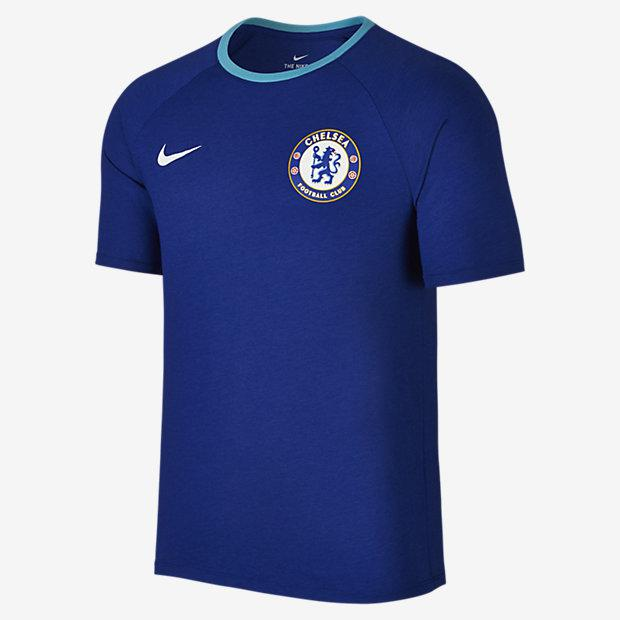teeshirt: (78, 14, 535, 615)
